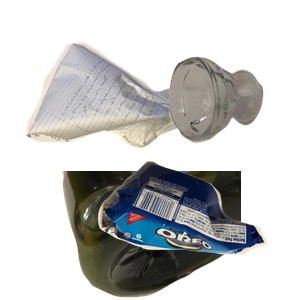glass: (166, 54, 300, 189)
paper: (23, 40, 223, 180)
plastic: (60, 171, 300, 300)
trash: (95, 158, 300, 300)
